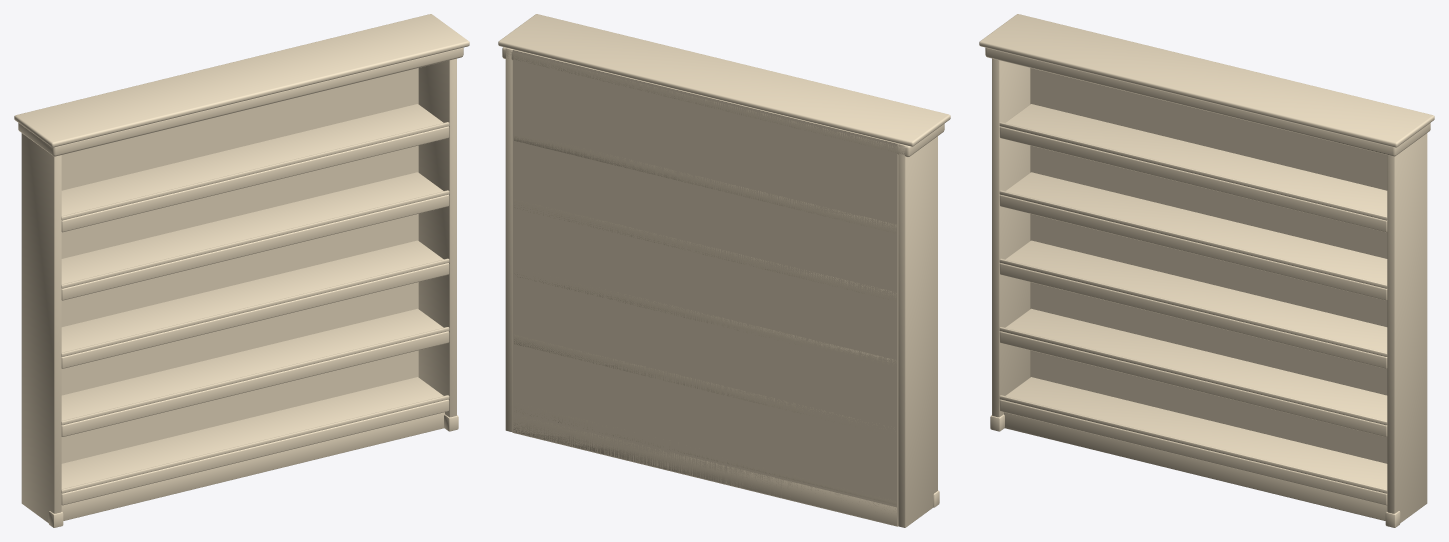
File: shelf_5x210x30.glb
3 views of the same model, side by side, from view 1: azimuth 30°, elevation 25°; view 2: azimuth 150°, elevation 25°; view 3: azimuth 330°, elevation 25° (orthographic).
Visible parts, largest first — view 1: shelf_5x210x30; view 2: shelf_5x210x30; view 3: shelf_5x210x30.
Boxes of the visible parts, x1,y1,x2,y2 form: shelf_5x210x30: (14, 14, 469, 527); shelf_5x210x30: (498, 14, 950, 527); shelf_5x210x30: (979, 14, 1434, 527).
Bounding box in the file's own units: 2.18 × 1.95 × 0.35.
